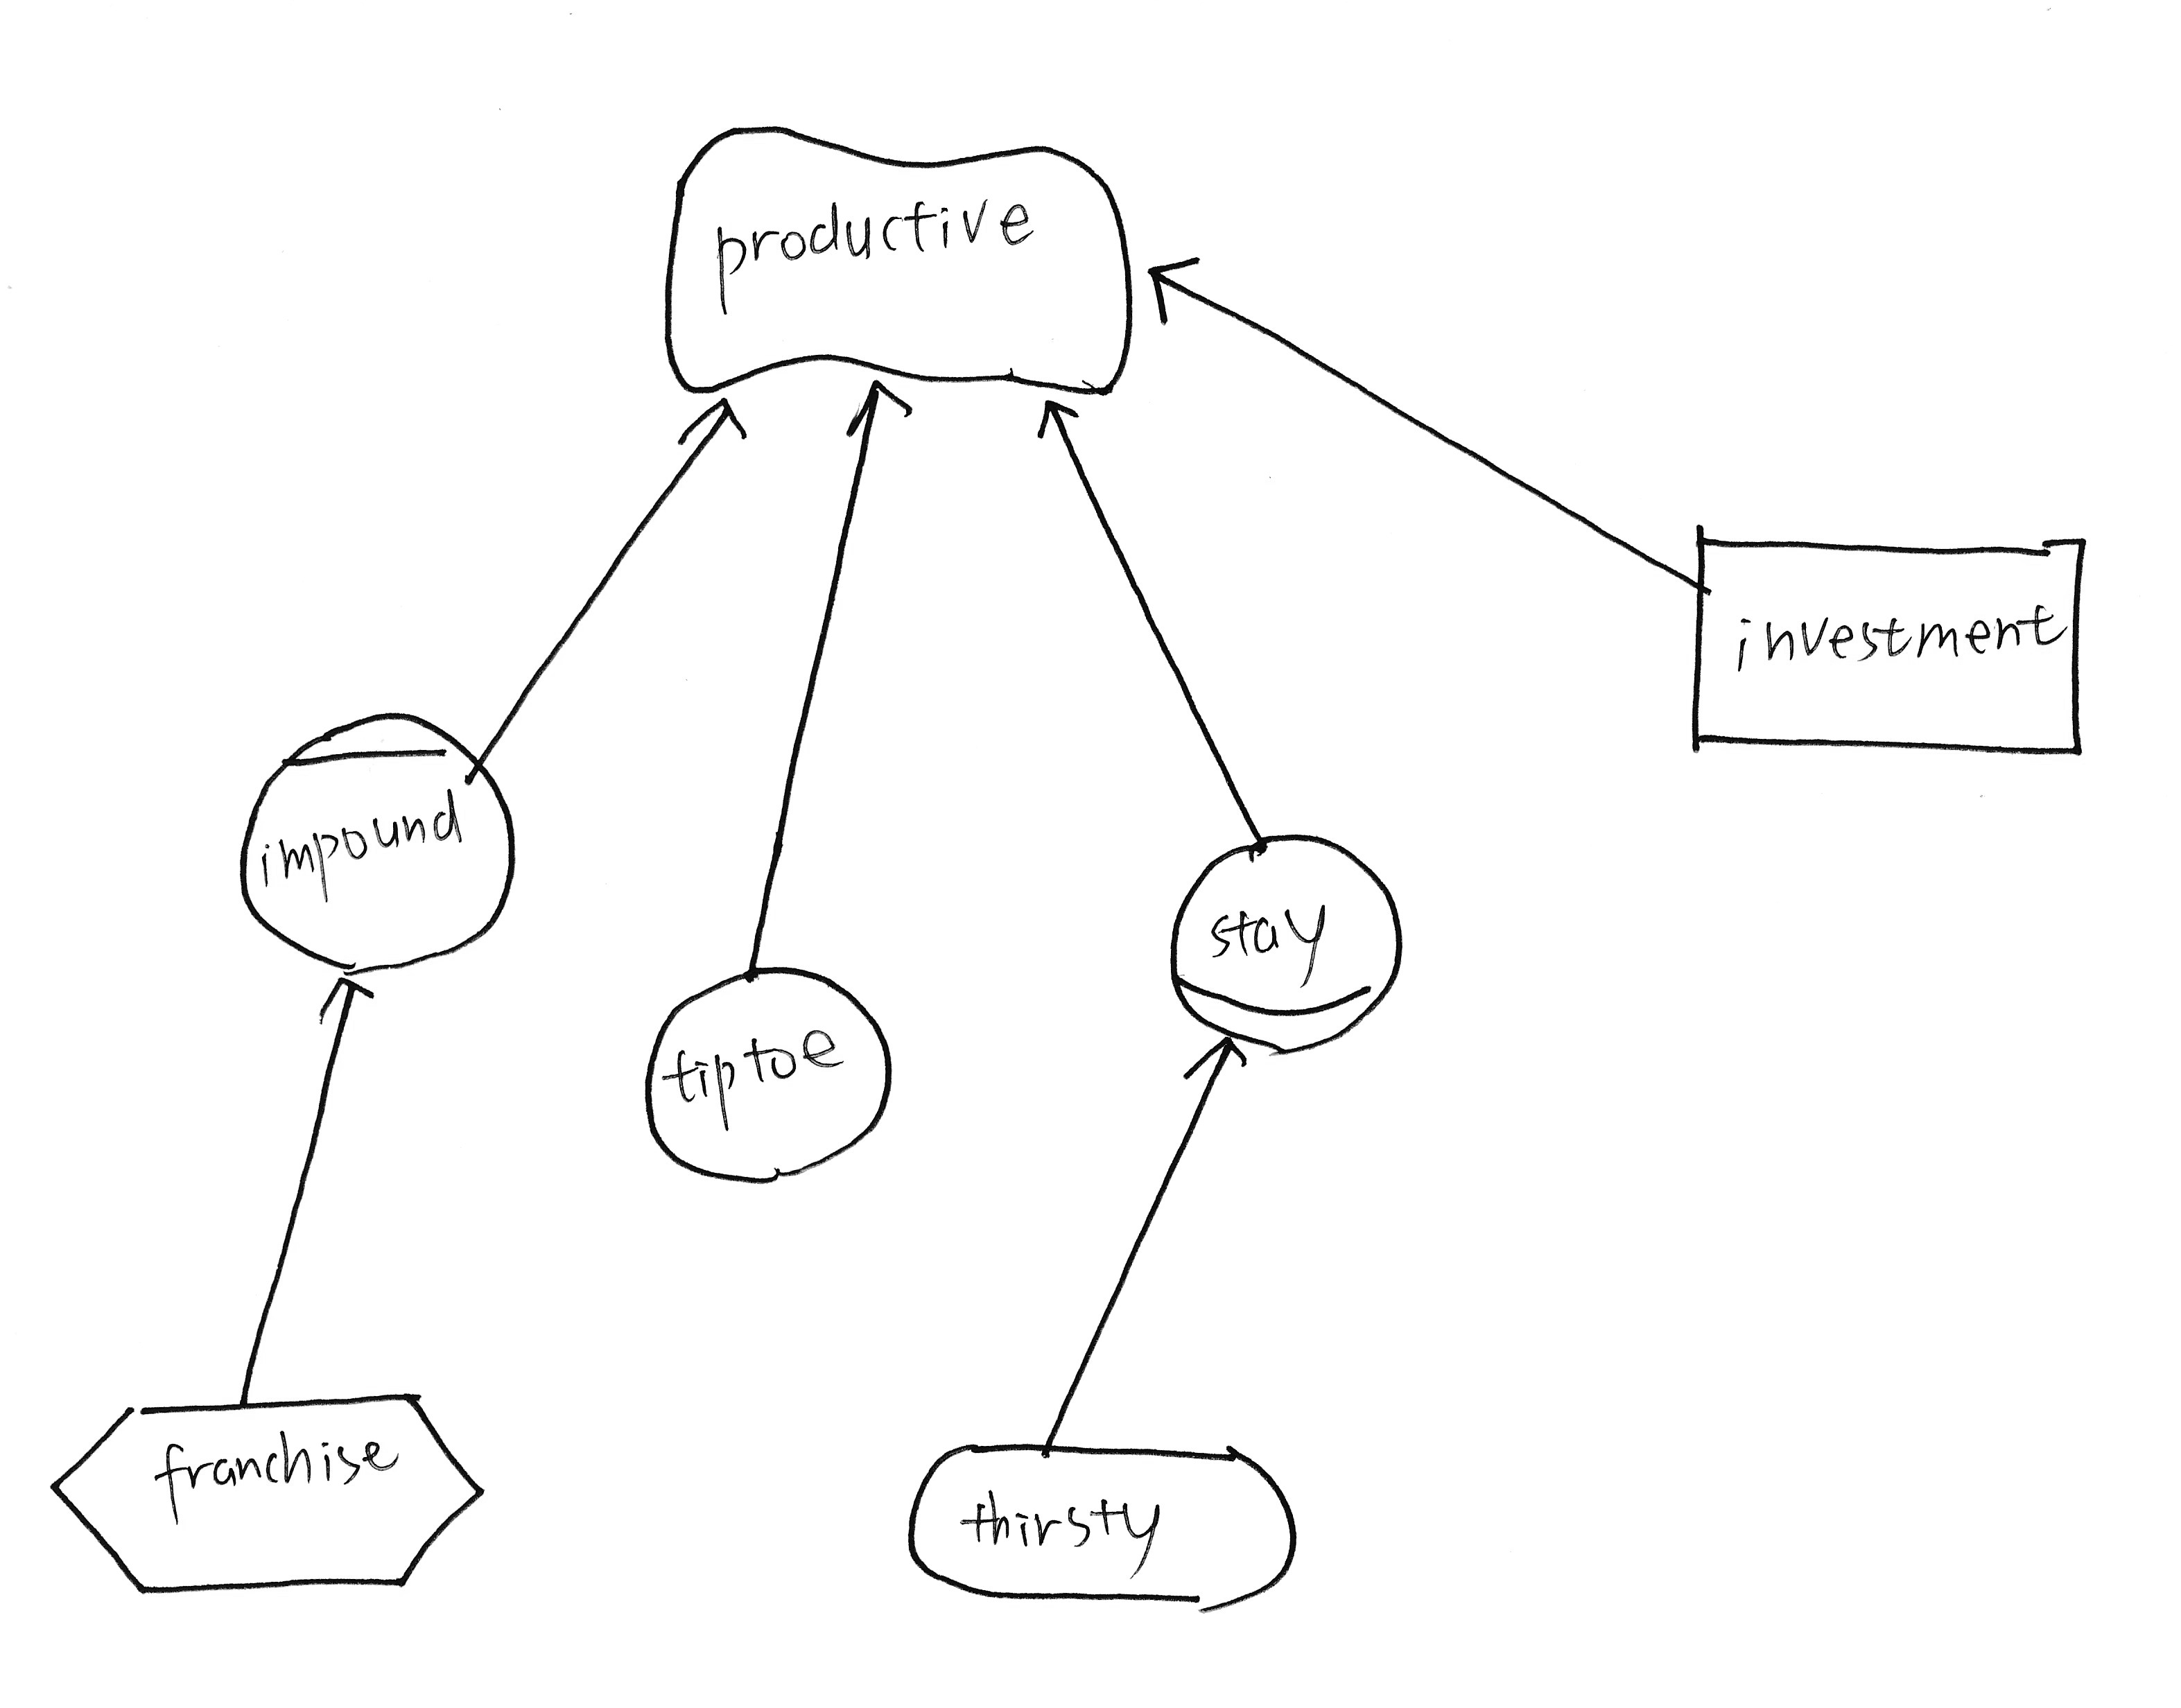actor: (627, 949, 912, 1196)
agent: (221, 694, 538, 986)
arrow: (1172, 1014, 1262, 1101), (1131, 246, 1214, 333), (669, 389, 758, 462), (303, 966, 389, 1037), (834, 375, 917, 448), (1016, 388, 1106, 448)
goal: (885, 1421, 1321, 1623)
quality: (643, 104, 1161, 441)
resource: (1662, 503, 2105, 781)
role: (1149, 819, 1416, 1073)
task: (32, 1366, 508, 1611)
